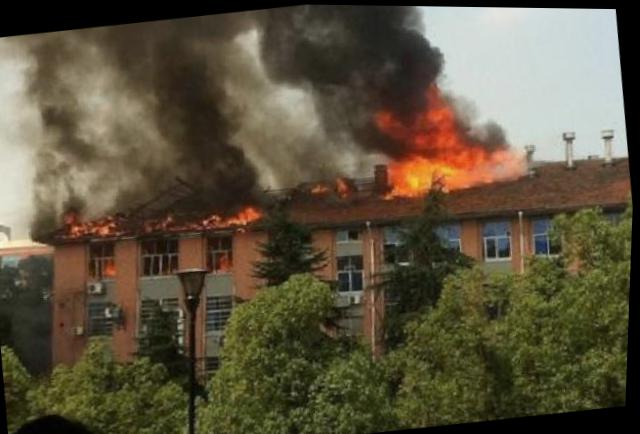fire: (390, 138, 530, 193), (404, 80, 467, 150), (374, 106, 410, 138), (66, 213, 117, 235), (210, 204, 258, 225), (217, 250, 235, 271), (102, 258, 118, 275)
smoke: (0, 0, 376, 205), (358, 4, 449, 90)
